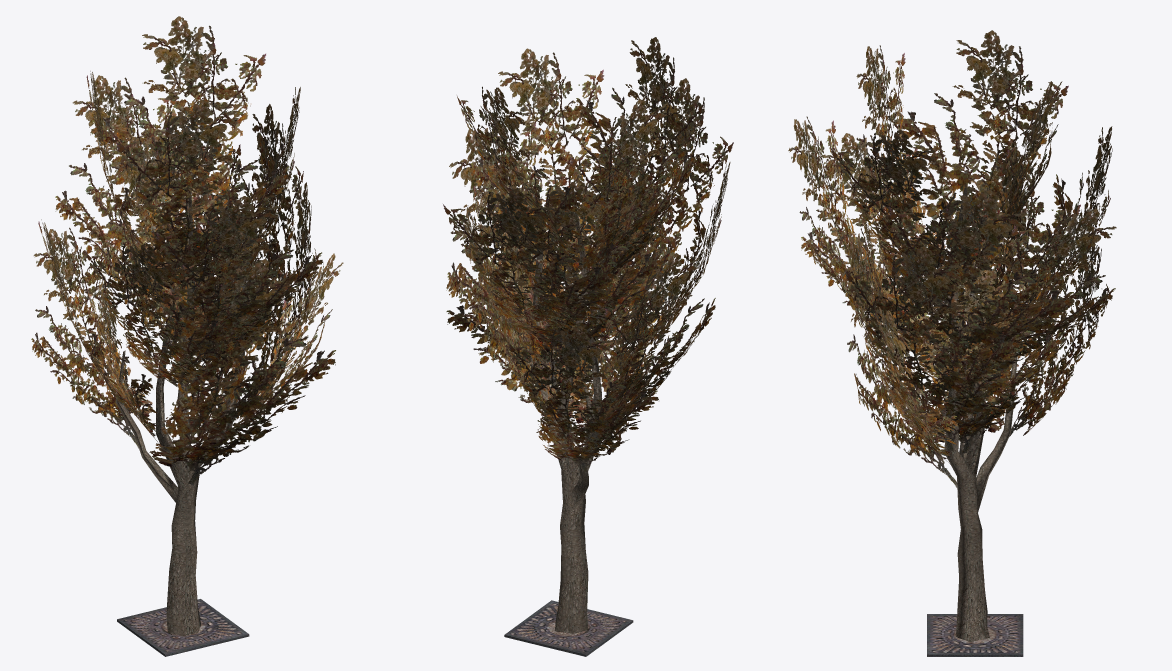
The model's file is tree_decid_large_base_leaf02.fbx.
The picture shows the model from 3 angles, left to right: view 1: azimuth 30°, elevation 25°; view 2: azimuth 150°, elevation 25°; view 3: azimuth 270°, elevation 25°; orthographic projection. The views are drawn at different scales.
Visible parts, largest first — view 1: mesh_1, mesh_0, mesh_2; view 2: mesh_1, mesh_0, mesh_2; view 3: mesh_1, mesh_0, mesh_2.
Boxes of the visible parts, x1=… form: mesh_1: x1=31, y1=16, x2=343, y2=485; mesh_0: x1=115, y1=188, x2=245, y2=635; mesh_2: x1=117, y1=599, x2=249, y2=656; mesh_1: x1=443, y1=37, x2=733, y2=472; mesh_0: x1=530, y1=205, x2=601, y2=633; mesh_2: x1=504, y1=600, x2=633, y2=656; mesh_1: x1=788, y1=30, x2=1116, y2=488; mesh_0: x1=944, y1=187, x2=1017, y2=641; mesh_2: x1=927, y1=614, x2=1023, y2=656.
Bounding box in the file's own units: 735 × 1320 × 795.
Materials: 3 (3 with a texture image).
